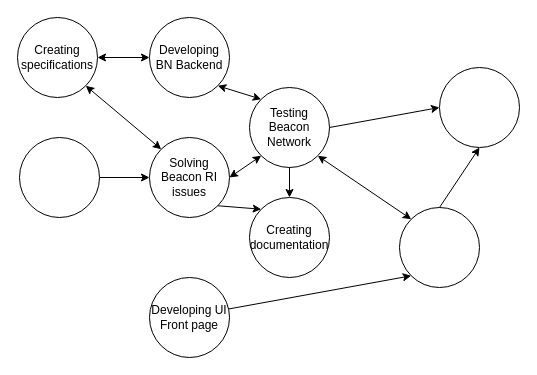
Image size: 537x375. Some labels were removed from this diagram. Each missing label, with the centre of its shape:
"Creating BFF datasets" goes at point (59, 177).
"Developing UI Results page" goes at point (439, 247).
"Prototype working" goes at point (479, 107).
